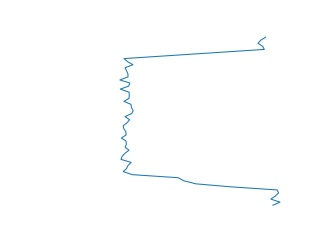distributaryChannelFill: (116, 36, 284, 208)
